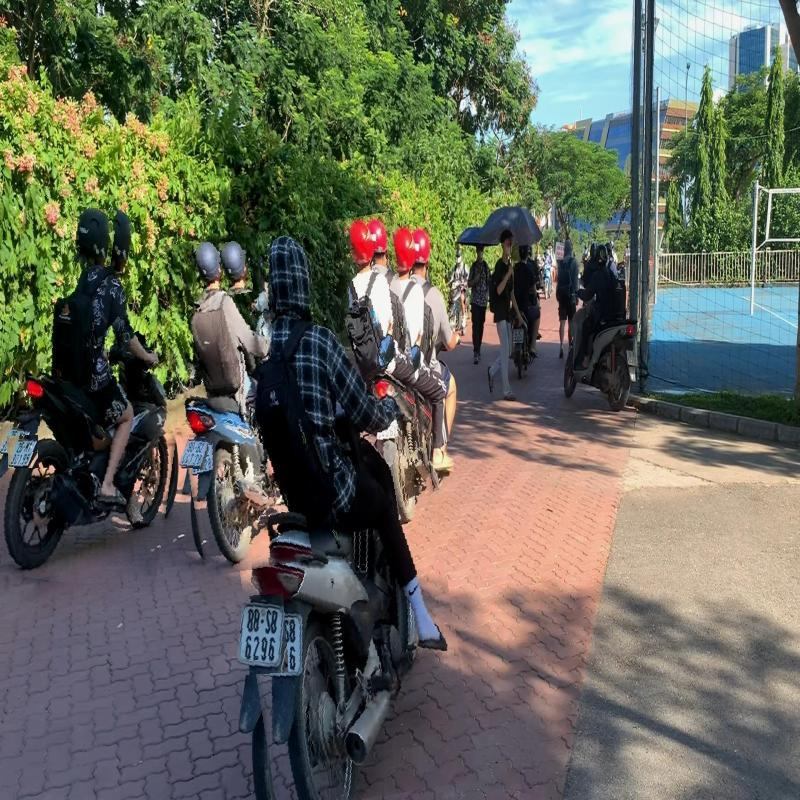helmet: (68, 206, 116, 266), (220, 240, 251, 294)
licenseplate: (236, 594, 288, 675), (7, 435, 38, 468), (180, 436, 208, 470)
motorcyclist: (209, 218, 457, 800), (0, 189, 195, 590), (163, 234, 300, 574)
